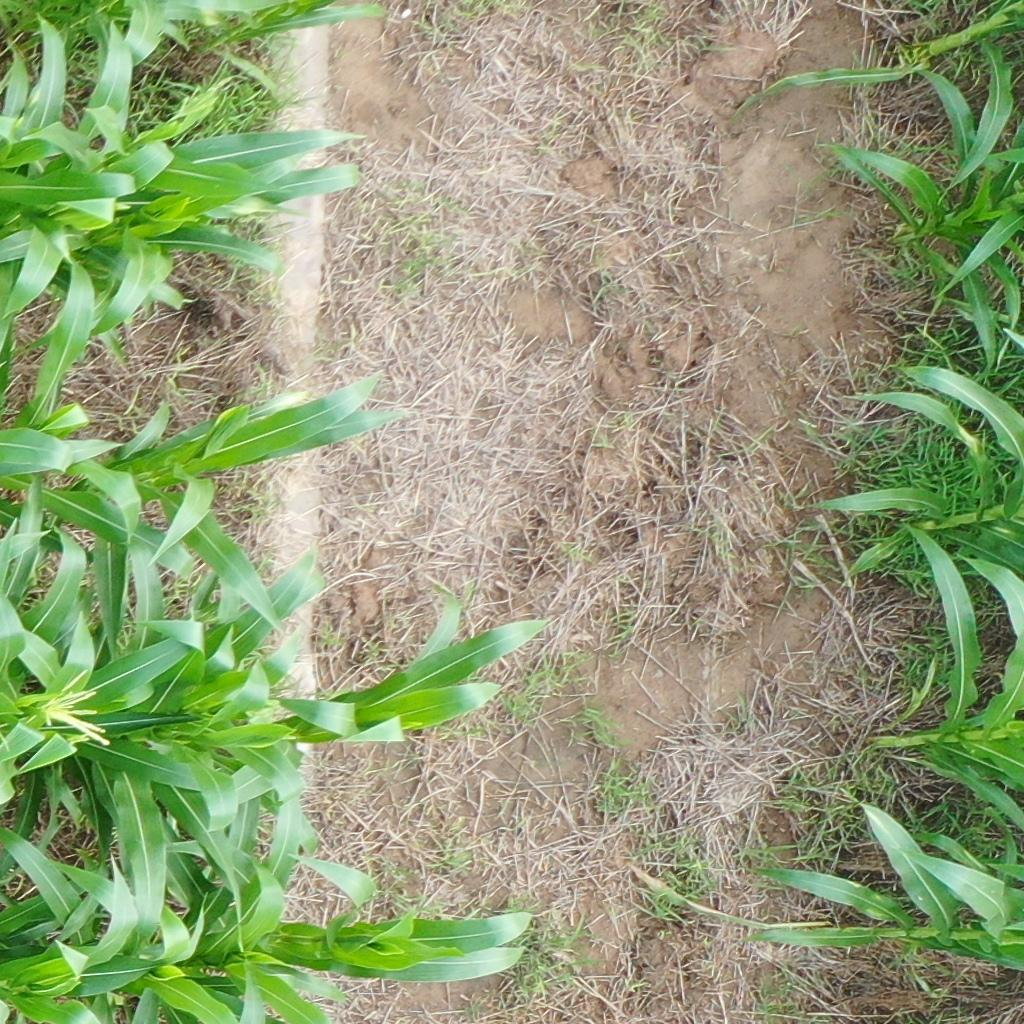Tassel: (29, 678, 115, 751), (164, 75, 236, 128)
